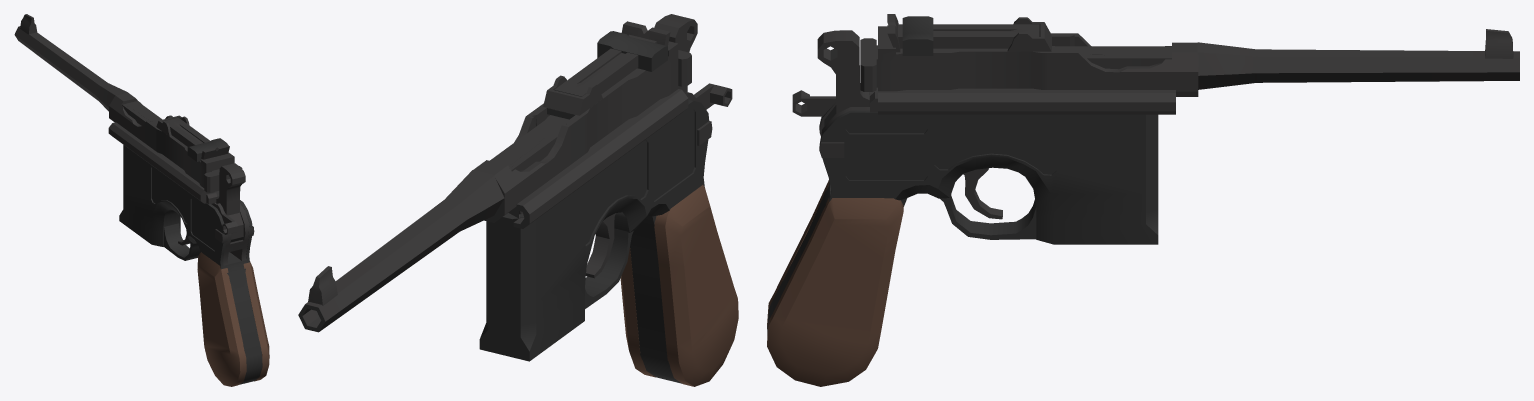
File: gun_c96.glb
The picture shows the model from 3 angles, left to right: view 1: azimuth 30°, elevation 25°; view 2: azimuth 150°, elevation 25°; view 3: azimuth 270°, elevation 25°; orthographic projection. The views are drawn at different scales.
Visible parts, largest first — view 1: body; view 2: body; view 3: body.
Boxes of the visible parts, x1=… form: body: x1=14, y1=14, x2=269, y2=386; body: x1=298, y1=14, x2=738, y2=386; body: x1=767, y1=14, x2=1519, y2=386.
Bounding box in the file's own units: 0.0991 × 0.5155 × 1.
